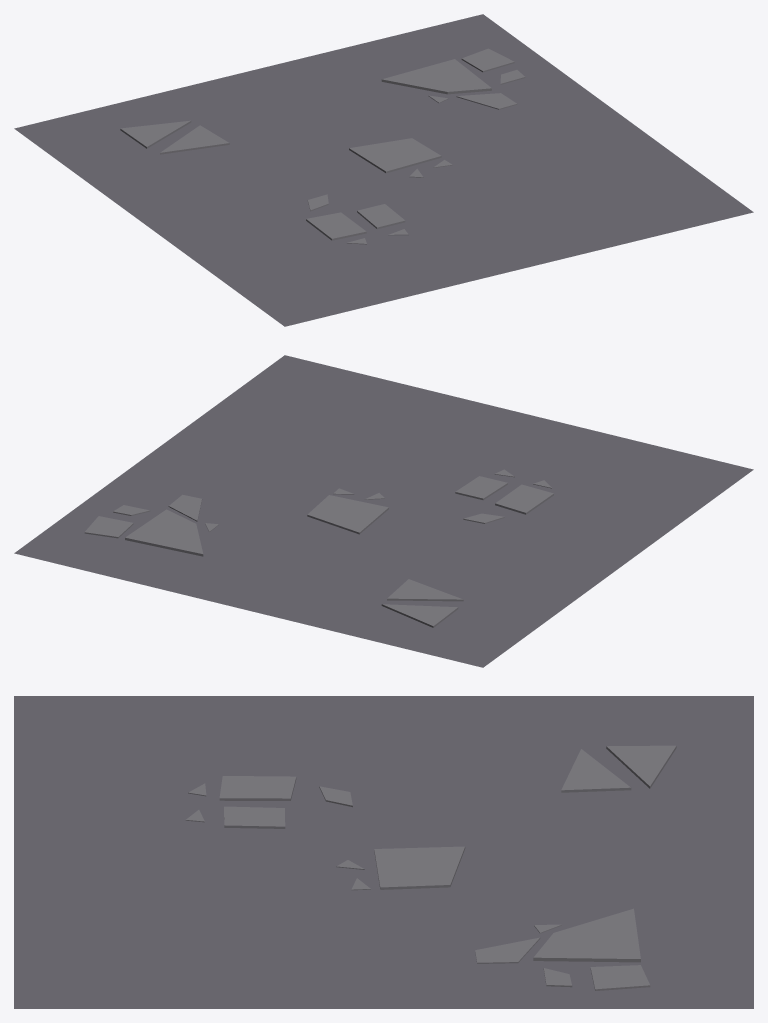
Rendered from floor_small.fbx.
3 views of the same model, one above another, from view 1: azimuth 30°, elevation 25°; view 2: azimuth 150°, elevation 25°; view 3: azimuth 270°, elevation 25° (orthographic). The views are drawn at different scales.
Parts seen in each view (by area): view 1: floor_small; view 2: floor_small; view 3: floor_small.
Part boxes in pixels (x1=…): floor_small: x1=14, y1=14, x2=753, y2=326; floor_small: x1=14, y1=355, x2=753, y2=667; floor_small: x1=14, y1=696, x2=753, y2=1008.
Size of the model in its own units: 300 by 2.98 by 300.
